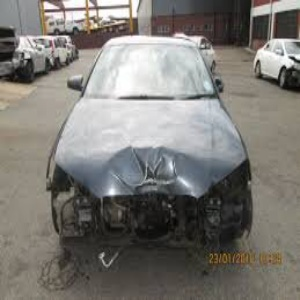bonnet: (73, 123, 217, 196)
